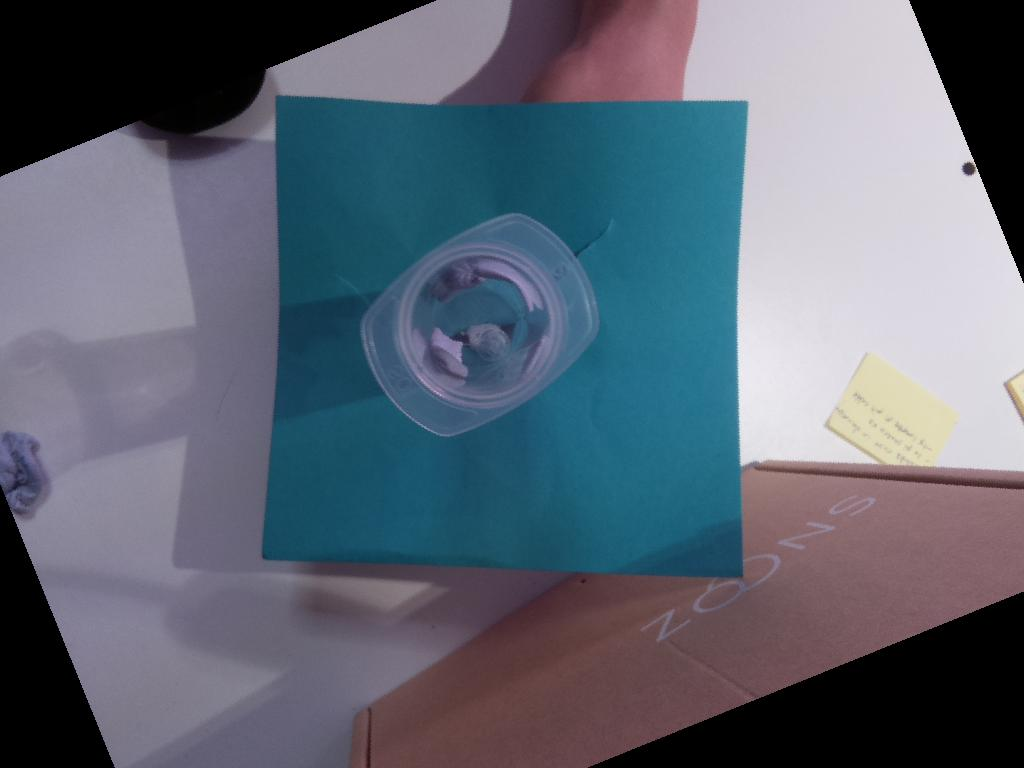dirty: (359, 211, 606, 437)
